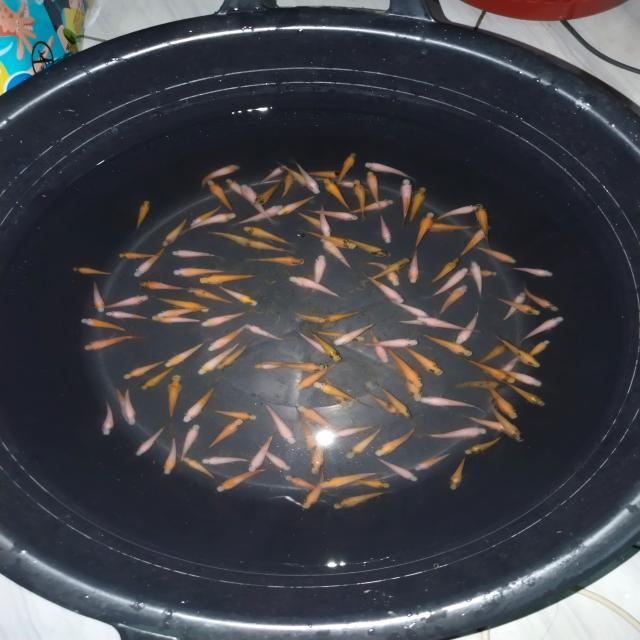nila: (184, 376, 224, 421), (490, 398, 528, 445), (382, 344, 424, 386), (240, 182, 280, 226), (402, 340, 448, 378), (290, 272, 344, 304), (376, 380, 419, 420), (463, 354, 518, 385), (495, 331, 541, 368), (485, 376, 522, 421), (326, 235, 390, 261), (201, 416, 246, 452), (213, 466, 270, 494), (412, 388, 481, 411), (332, 489, 399, 512), (229, 202, 288, 228), (344, 426, 384, 464), (242, 222, 300, 248), (518, 314, 568, 344), (426, 266, 470, 300), (314, 381, 370, 407), (195, 344, 240, 376), (81, 330, 141, 354), (361, 256, 412, 284), (182, 211, 239, 236), (266, 401, 298, 445), (248, 429, 280, 473), (439, 378, 517, 396), (160, 340, 210, 368), (300, 466, 332, 509), (320, 236, 356, 274), (422, 255, 463, 288), (290, 410, 317, 460), (371, 427, 419, 455), (373, 456, 421, 484), (300, 228, 356, 252), (131, 243, 169, 278), (366, 160, 417, 186), (363, 273, 405, 304), (332, 322, 380, 349), (422, 333, 476, 357), (133, 422, 167, 460), (296, 364, 342, 392), (416, 314, 480, 334), (207, 323, 251, 352), (457, 224, 493, 259), (396, 359, 424, 403), (362, 258, 403, 288), (159, 213, 194, 248), (308, 326, 342, 362), (316, 469, 380, 488), (256, 442, 294, 474), (411, 426, 491, 441), (273, 194, 322, 218), (520, 286, 562, 314), (96, 290, 152, 311), (283, 473, 328, 499), (452, 308, 482, 347), (156, 296, 214, 316), (436, 283, 469, 318), (322, 177, 352, 215), (201, 163, 243, 190), (473, 243, 521, 266), (508, 383, 554, 407), (406, 184, 432, 226), (408, 211, 439, 246), (207, 228, 254, 251), (120, 359, 167, 382), (363, 390, 403, 417), (166, 372, 186, 426), (263, 358, 334, 373), (254, 160, 292, 188), (218, 285, 264, 308), (226, 177, 262, 206), (207, 177, 236, 213), (494, 296, 543, 317), (474, 341, 512, 368), (298, 404, 339, 429), (498, 290, 528, 324), (158, 434, 180, 480), (446, 454, 474, 490), (362, 171, 386, 213), (110, 385, 134, 427), (216, 343, 252, 371), (350, 176, 370, 226), (386, 298, 431, 320), (492, 352, 530, 378), (294, 330, 330, 357), (307, 206, 361, 224), (141, 366, 178, 392), (364, 325, 388, 365), (243, 322, 291, 342), (296, 159, 324, 193), (414, 221, 486, 234), (170, 247, 228, 263), (333, 150, 361, 183), (277, 159, 310, 187), (322, 374, 349, 408), (306, 254, 330, 292), (82, 315, 130, 334), (346, 196, 396, 214), (431, 204, 481, 222), (244, 238, 294, 256), (198, 310, 248, 328), (186, 286, 236, 304), (246, 253, 302, 269), (180, 422, 202, 462), (198, 270, 260, 284), (465, 414, 513, 432), (150, 304, 211, 318), (190, 203, 227, 226), (312, 325, 362, 342), (500, 372, 547, 390), (296, 210, 331, 234), (252, 180, 282, 208), (396, 178, 414, 224), (413, 450, 454, 470), (182, 456, 216, 480), (278, 164, 300, 200), (200, 454, 256, 468), (208, 406, 260, 421), (464, 438, 504, 457), (138, 280, 192, 294), (332, 422, 379, 438), (522, 336, 556, 358), (467, 259, 487, 296), (133, 198, 153, 234), (478, 202, 494, 246), (89, 279, 109, 314), (104, 308, 154, 322), (308, 442, 329, 475), (406, 244, 422, 287), (316, 204, 334, 242), (510, 265, 558, 279), (358, 338, 425, 348), (151, 314, 206, 326), (100, 398, 116, 439), (322, 307, 362, 323), (124, 384, 140, 424), (325, 176, 366, 191), (170, 267, 230, 277), (253, 358, 295, 372), (374, 216, 394, 243), (447, 270, 501, 280), (350, 476, 394, 488), (69, 266, 120, 276), (290, 310, 325, 324), (116, 251, 170, 260), (394, 316, 432, 328), (306, 169, 344, 177)
